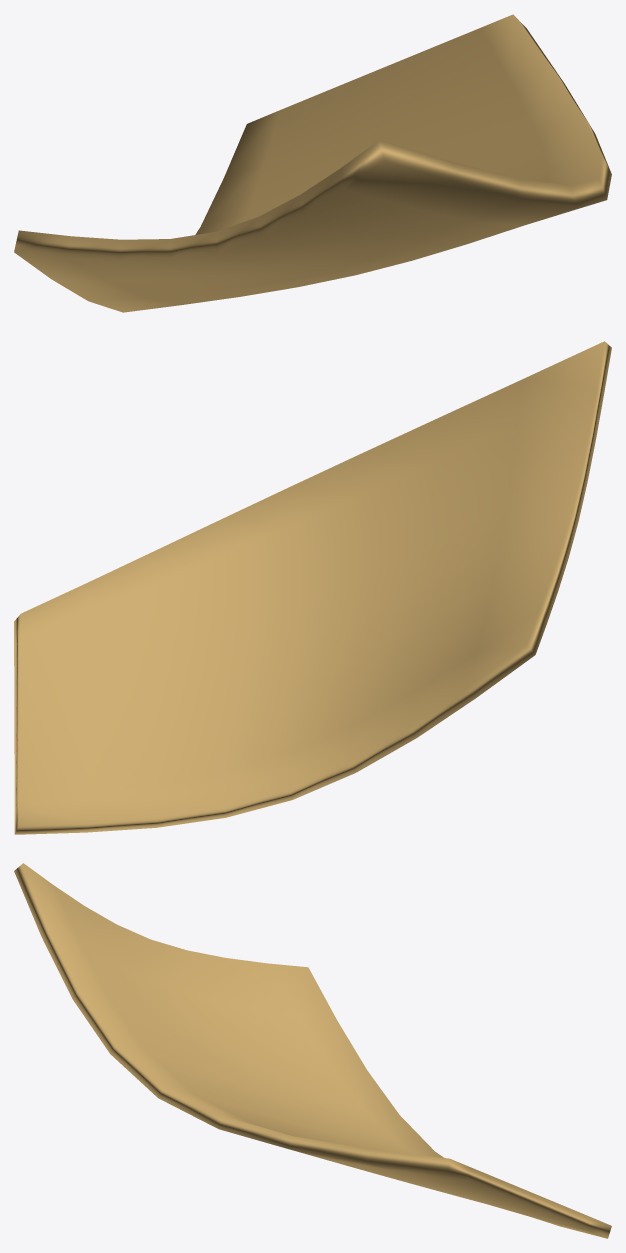
The picture shows the model from 3 angles, top to bottom: view 1: azimuth 30°, elevation 25°; view 2: azimuth 150°, elevation 25°; view 3: azimuth 270°, elevation 25°; orthographic projection. The views are drawn at different scales.
Visible parts, largest first — view 1: 右侧胸锁前韧带; view 2: 右侧胸锁前韧带; view 3: 右侧胸锁前韧带.
Part boxes in pixels (x1,y1,x2,y2): 右侧胸锁前韧带: (14, 14, 611, 312); 右侧胸锁前韧带: (14, 341, 611, 834); 右侧胸锁前韧带: (14, 863, 611, 1238).
Bounding box in the file's own units: 0.0237 × 0.0166 × 0.0323.
